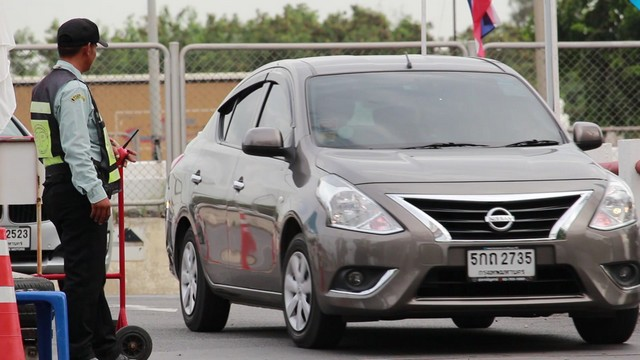in: (468, 251, 533, 275)
out: (464, 246, 539, 283)
